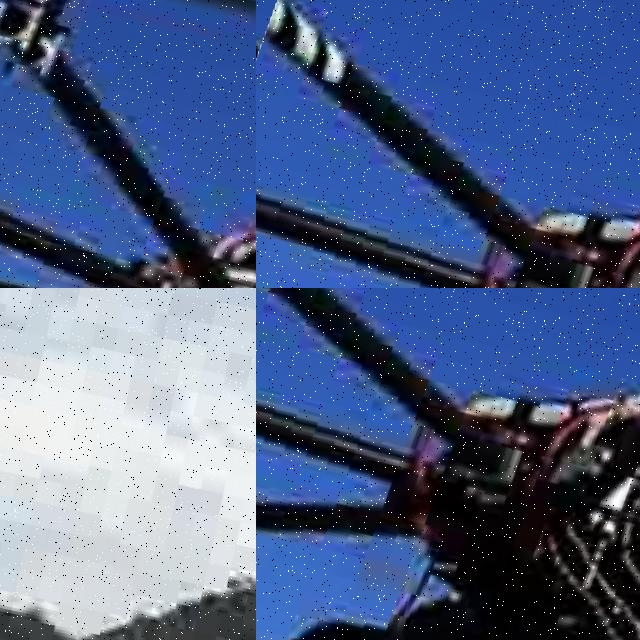drone: (256, 288, 640, 640), (256, 0, 640, 288), (0, 0, 256, 288)
